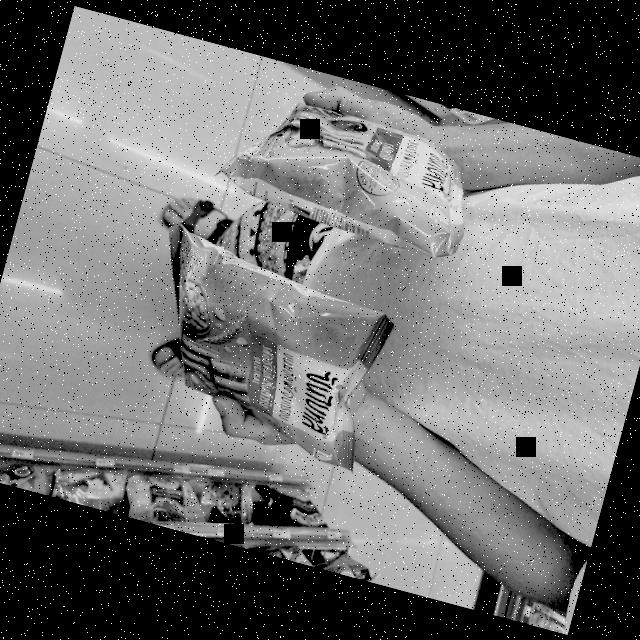snack_bag: (113, 207, 411, 495), (198, 61, 502, 286)
